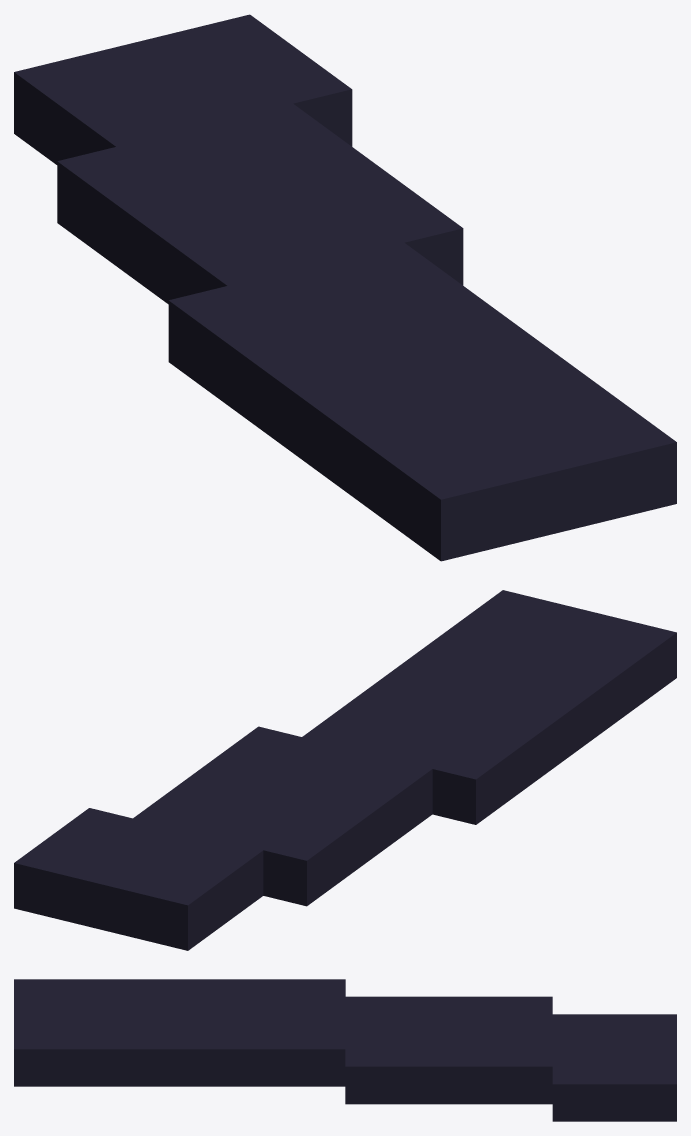
The model's file is rail 90 1.gltf.
3 views of the same model, one above another, from view 1: azimuth 30°, elevation 25°; view 2: azimuth 150°, elevation 25°; view 3: azimuth 270°, elevation 25° (orthographic). The views are drawn at different scales.
Parts seen in each view (by area): view 1: rail 90 1; view 2: rail 90 1; view 3: rail 90 1.
Part boxes in pixels (x1,y1,x2,y2): rail 90 1: [14, 14, 676, 561]; rail 90 1: [14, 590, 676, 950]; rail 90 1: [14, 979, 676, 1121].
Bounding box in the file's own units: 6 × 1 × 16.
1 material, 1 textured.
